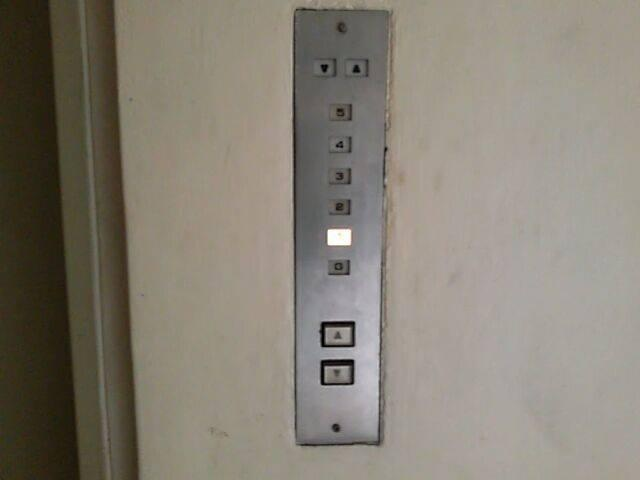2: (326, 197, 352, 217)
3: (327, 166, 354, 187)
4: (327, 135, 352, 156)
5: (328, 103, 352, 124)
G: (326, 258, 351, 276)
blur: (325, 227, 353, 248)
down: (318, 358, 357, 387), (312, 57, 337, 79)
up: (318, 320, 356, 349), (344, 57, 370, 80)
